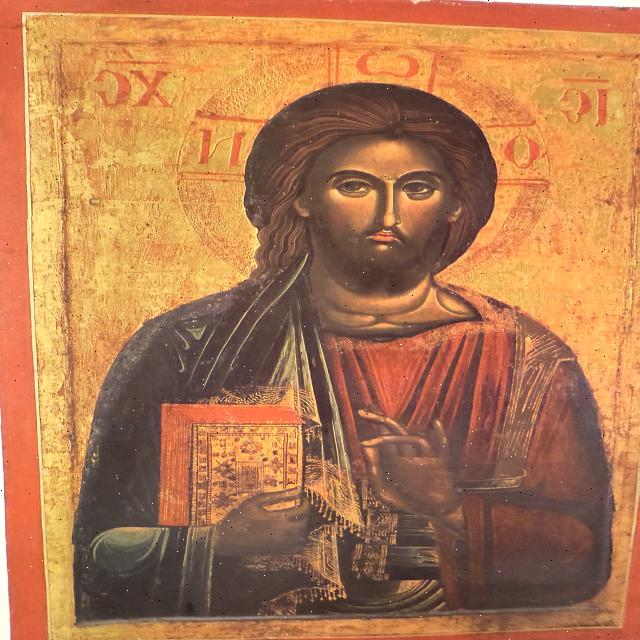aura: (176, 36, 552, 304)
book: (155, 398, 308, 536)
christ: (79, 39, 604, 614)
christ_hand: (348, 404, 498, 524)
